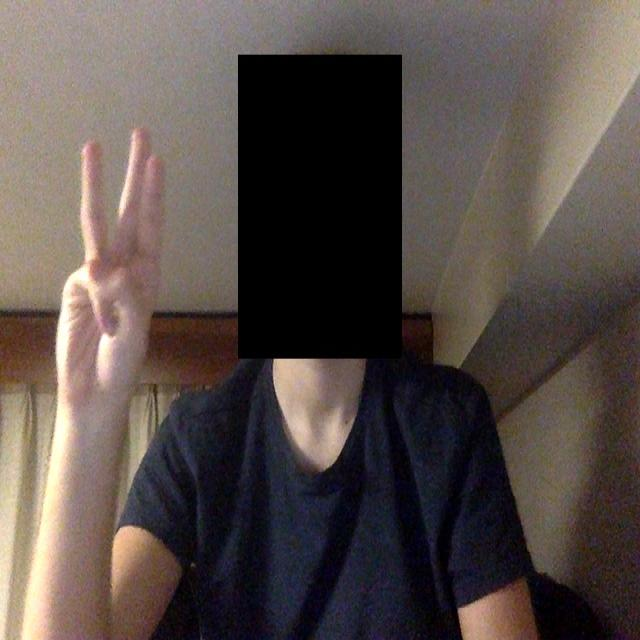W: (35, 95, 195, 451)
